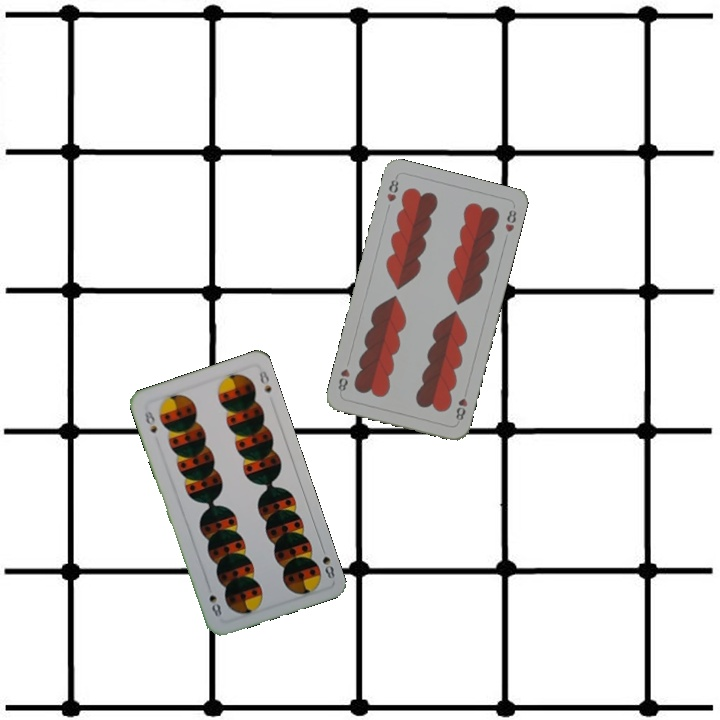H8: (452, 385, 470, 423), (383, 173, 401, 205)
S8: (317, 542, 337, 582), (140, 407, 160, 435)
